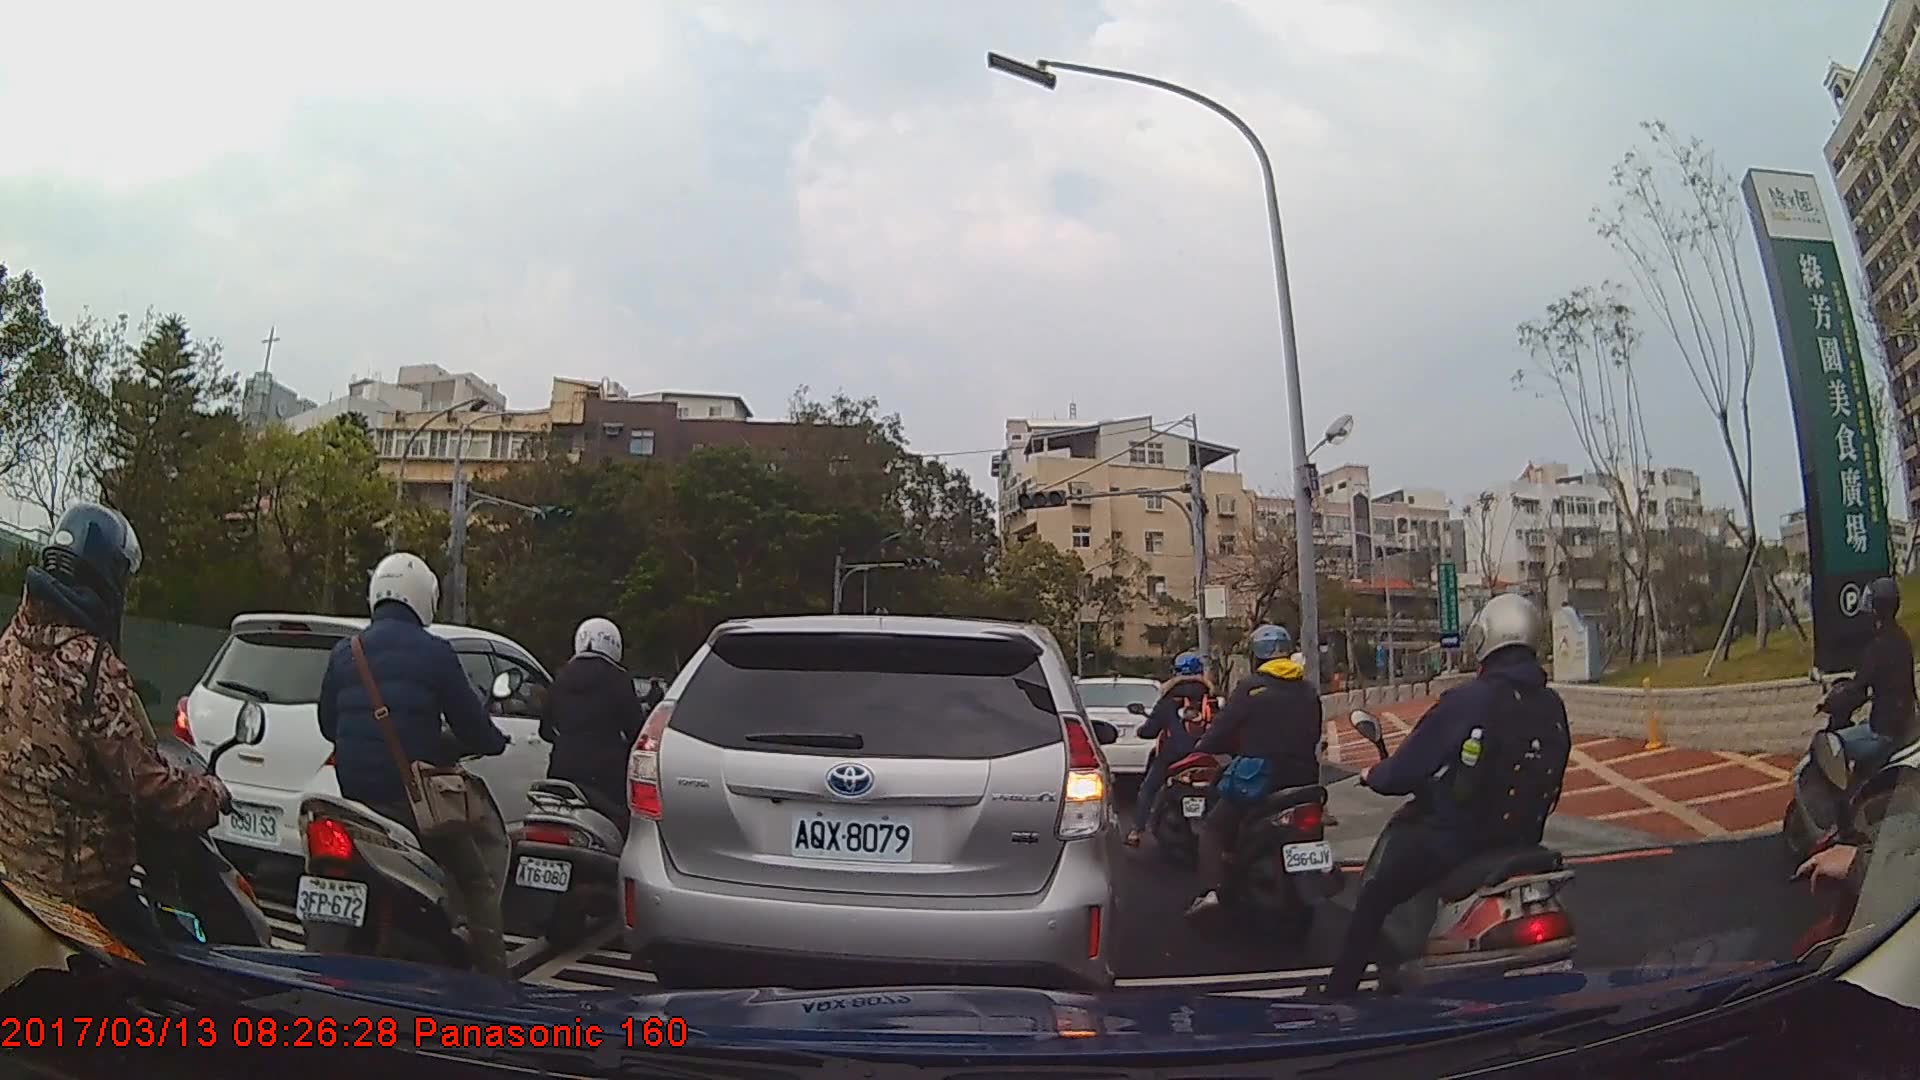rider: (1, 500, 274, 1061), (299, 545, 528, 1000), (1351, 596, 1588, 1033), (515, 617, 692, 948), (1185, 621, 1339, 945), (1785, 577, 1915, 869), (1129, 651, 1226, 864)
vehicle: (615, 612, 1120, 997), (171, 613, 614, 898), (1057, 676, 1175, 789)
